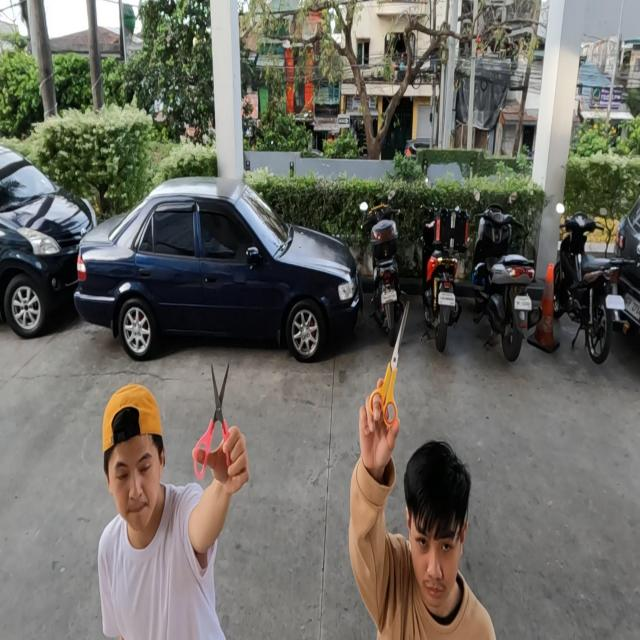scissor: (369, 300, 410, 428), (194, 362, 235, 480)
